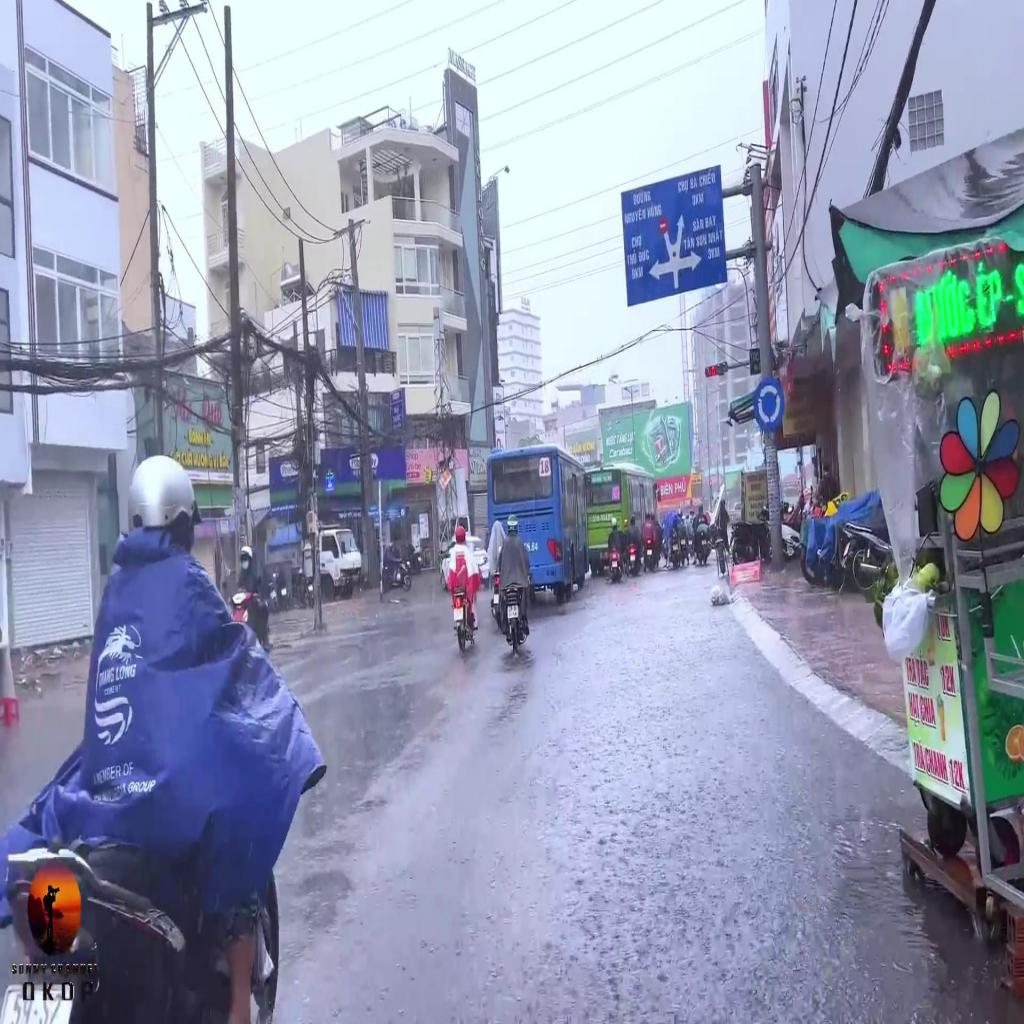khac: (621, 164, 727, 306)
noi_giao_nhau_chay_theo_vong: (753, 380, 785, 432)
